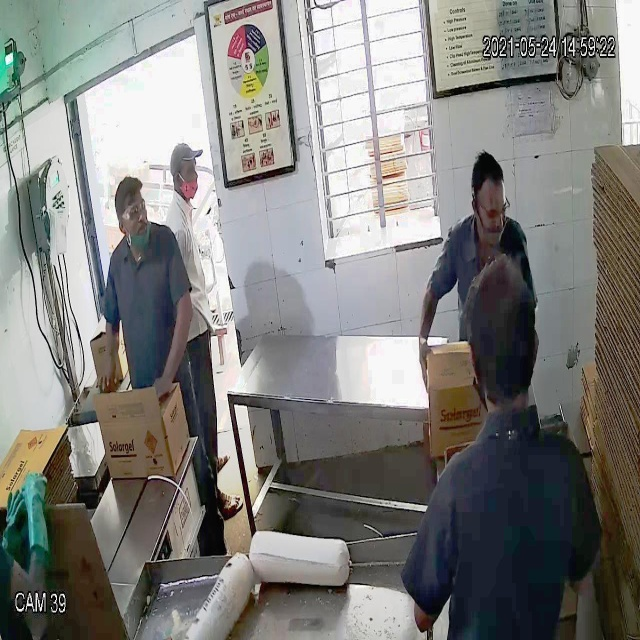Gafas: (112, 198, 147, 225)
